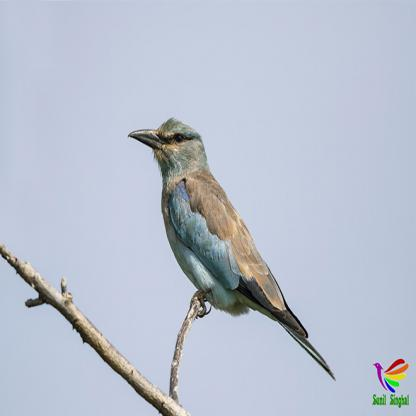Burung: (127, 117, 335, 381)
